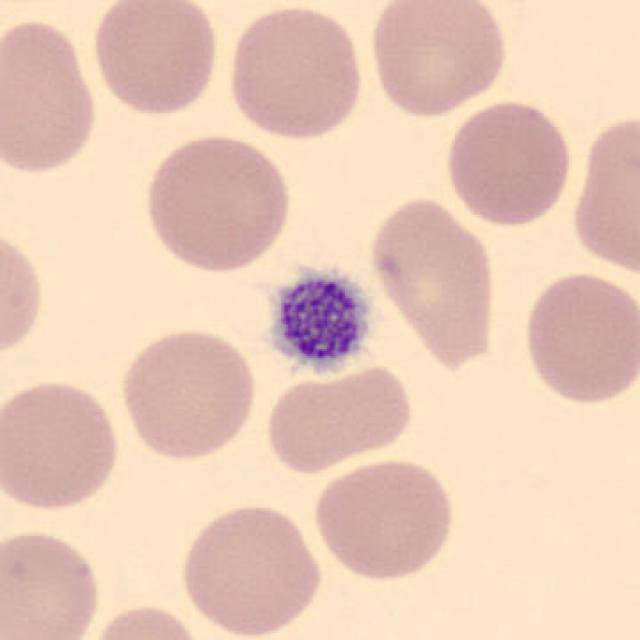Platelets: (263, 266, 377, 381)
RBC: (364, 192, 502, 372), (139, 129, 295, 275), (176, 499, 325, 638), (222, 2, 368, 143), (116, 322, 260, 463), (309, 453, 459, 584), (260, 358, 418, 476), (441, 95, 576, 229), (364, 0, 510, 120), (0, 374, 124, 515), (518, 268, 638, 407), (0, 12, 101, 177), (87, 0, 222, 118), (567, 108, 640, 282), (0, 525, 105, 640), (0, 220, 48, 368), (80, 599, 208, 640)
